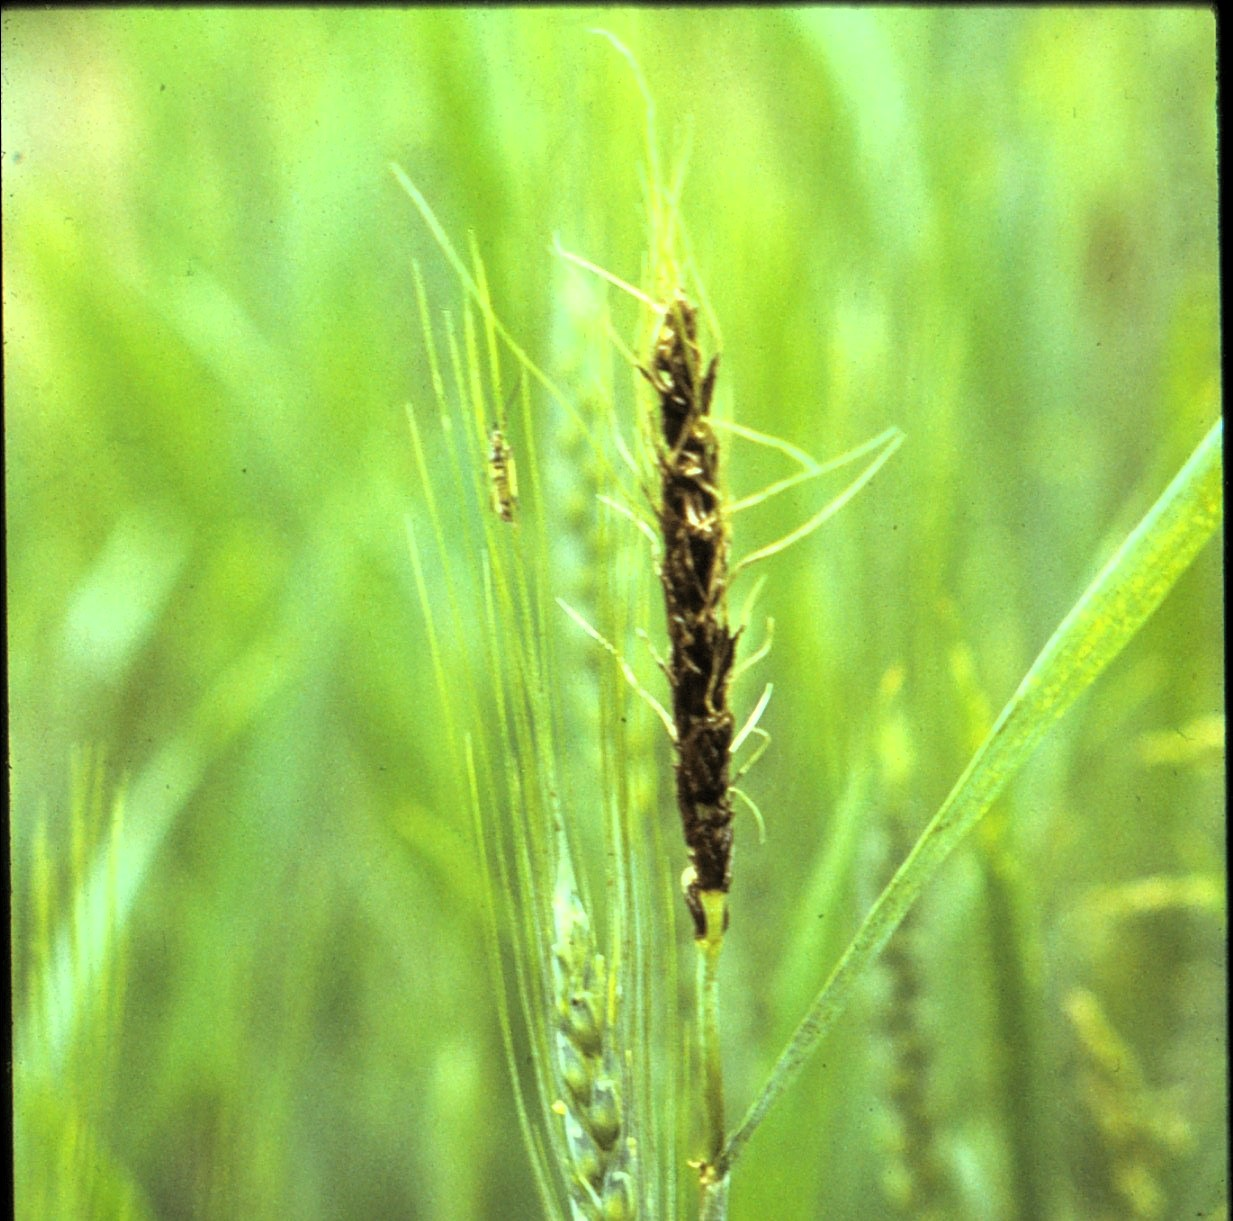Wheat Loose Smut: (630, 300, 772, 896)
